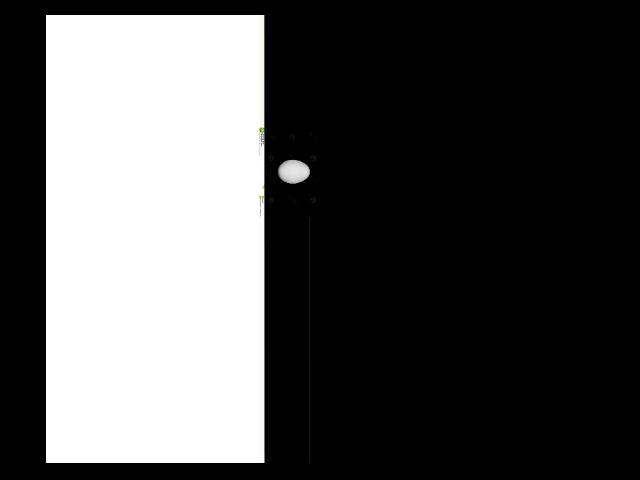egg: (277, 160, 309, 184)
